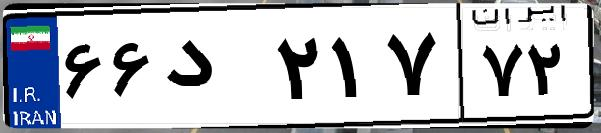1: (330, 28, 385, 110)
2: (270, 28, 330, 110), (525, 38, 570, 115)
6: (57, 26, 110, 100), (110, 28, 158, 98)
7: (385, 28, 445, 110), (475, 38, 525, 113)
د: (158, 20, 270, 120)
